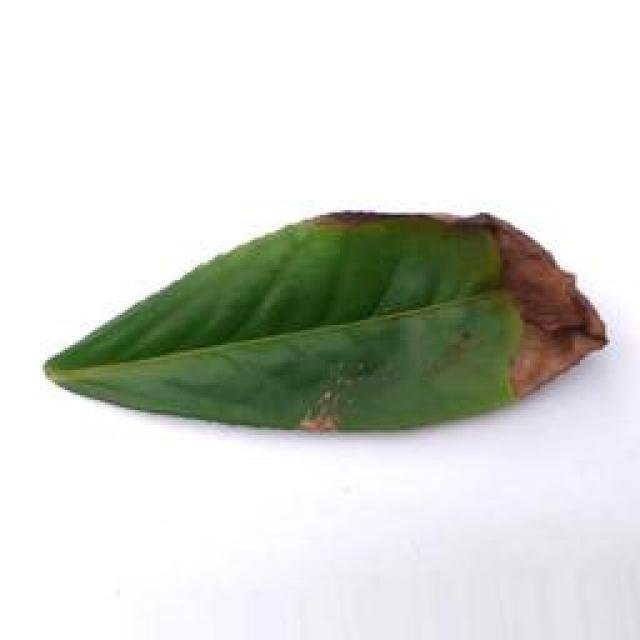Brown Blight: (39, 191, 613, 468)
